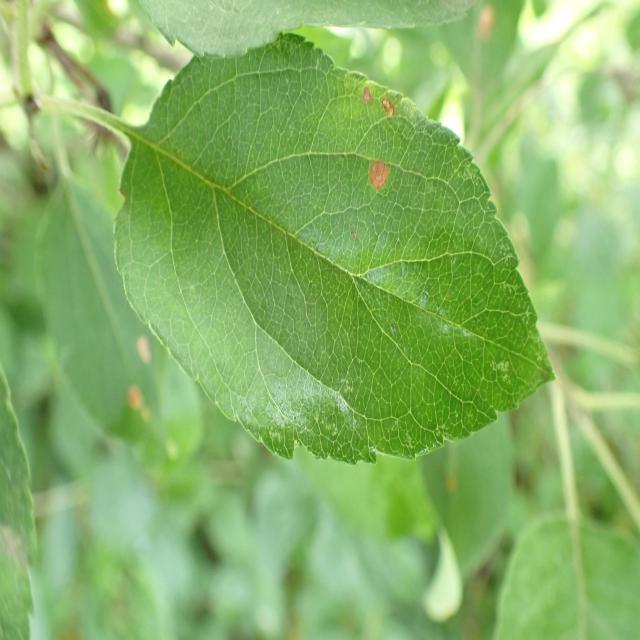Black Rot: (349, 137, 395, 210), (354, 75, 414, 119)
